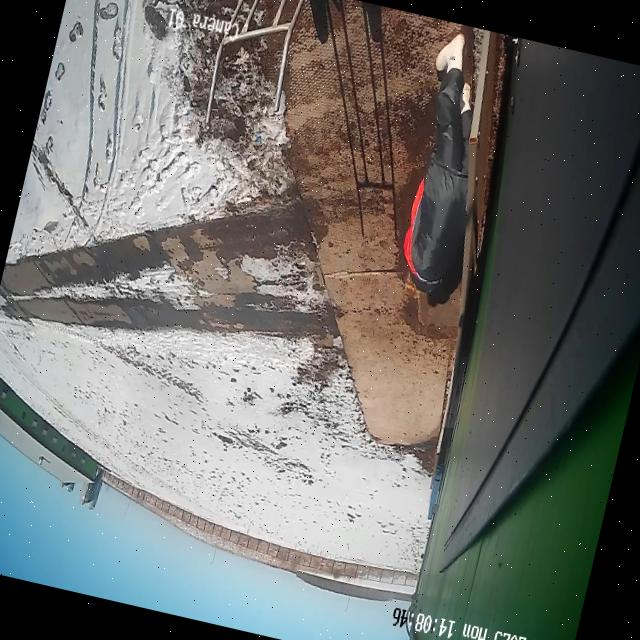Red uniform: (381, 27, 516, 306)
